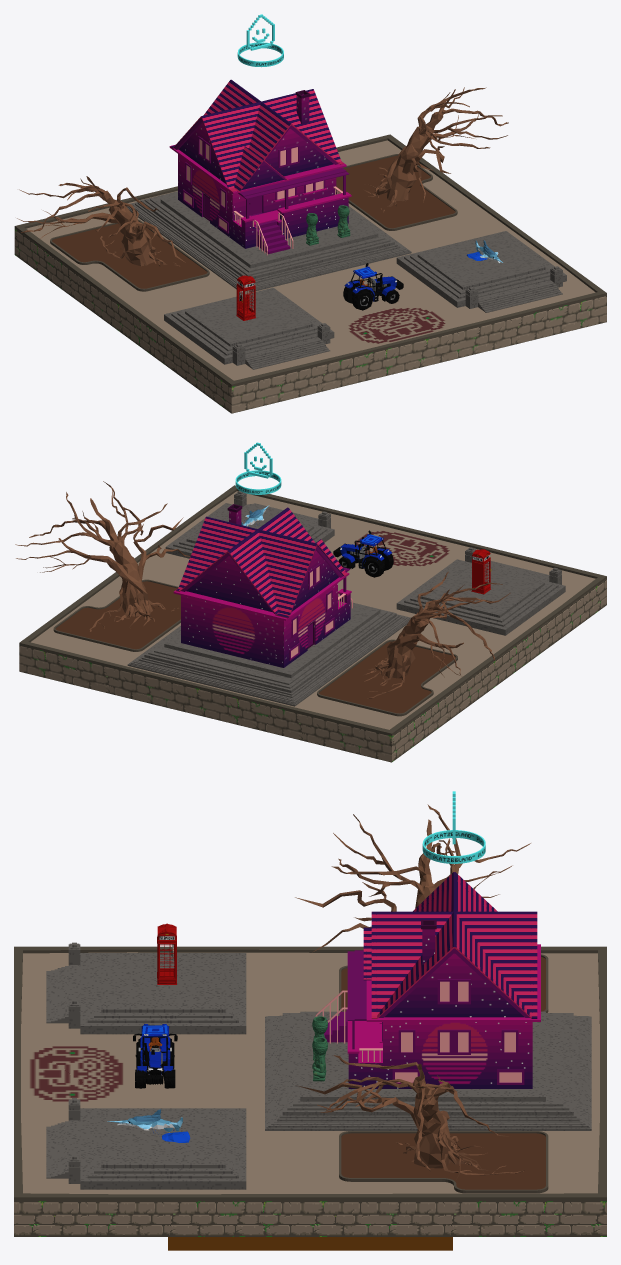
The picture shows the model from 3 angles, top to bottom: view 1: azimuth 30°, elevation 25°; view 2: azimuth 150°, elevation 25°; view 3: azimuth 270°, elevation 25°; orthographic projection. The views are drawn at different scales.
Parts seen in each view (by area): view 1: Cube.011, Cube.156, VEHICLES_TRACTOR, TYPE_PREMIUM, OBJRANDOM_PHONEBOOTH; view 2: Cube.011, Cube.156, VEHICLES_TRACTOR, TYPE_PREMIUM, OBJRANDOM_PHONEBOOTH; view 3: Cube.011, Cube.156, UNDERGROUND_ART_PIECE_VAN_GOGH, VEHICLES_TRACTOR, TYPE_PREMIUM, OBJRANDOM_PHONEBOOTH, ANIMAL_PEZ_ESPADA.
Boxes of the visible parts, x1=… form: Cube.011: x1=14, y1=87, x2=606, y2=413; Cube.156: x1=169, y1=79, x2=351, y2=255; VEHICLES_TRACTOR: x1=343, y1=263, x2=403, y2=310; TYPE_PREMIUM: x1=237, y1=14, x2=283, y2=67; OBJRANDOM_PHONEBOOTH: x1=236, y1=275, x2=255, y2=320; Cube.011: x1=15, y1=481, x2=606, y2=762; Cube.156: x1=173, y1=504, x2=352, y2=667; VEHICLES_TRACTOR: x1=333, y1=530, x2=393, y2=577; TYPE_PREMIUM: x1=235, y1=442, x2=281, y2=494; OBJRANDOM_PHONEBOOTH: x1=471, y1=549, x2=491, y2=594; Cube.011: x1=14, y1=804, x2=606, y2=1236; Cube.156: x1=315, y1=872, x2=540, y2=1088; UNDERGROUND_ART_PIECE_VAN_GOGH: x1=168, y1=1237, x2=452, y2=1250; VEHICLES_TRACTOR: x1=133, y1=1024, x2=177, y2=1088; TYPE_PREMIUM: x1=422, y1=791, x2=485, y2=863; OBJRANDOM_PHONEBOOTH: x1=157, y1=923, x2=176, y2=984; ANIMAL_PEZ_ESPADA: x1=107, y1=1109, x2=190, y2=1142.
Size of the model in its own units: 5099 by 2592 by 4000.
42 materials, 9 textured.
